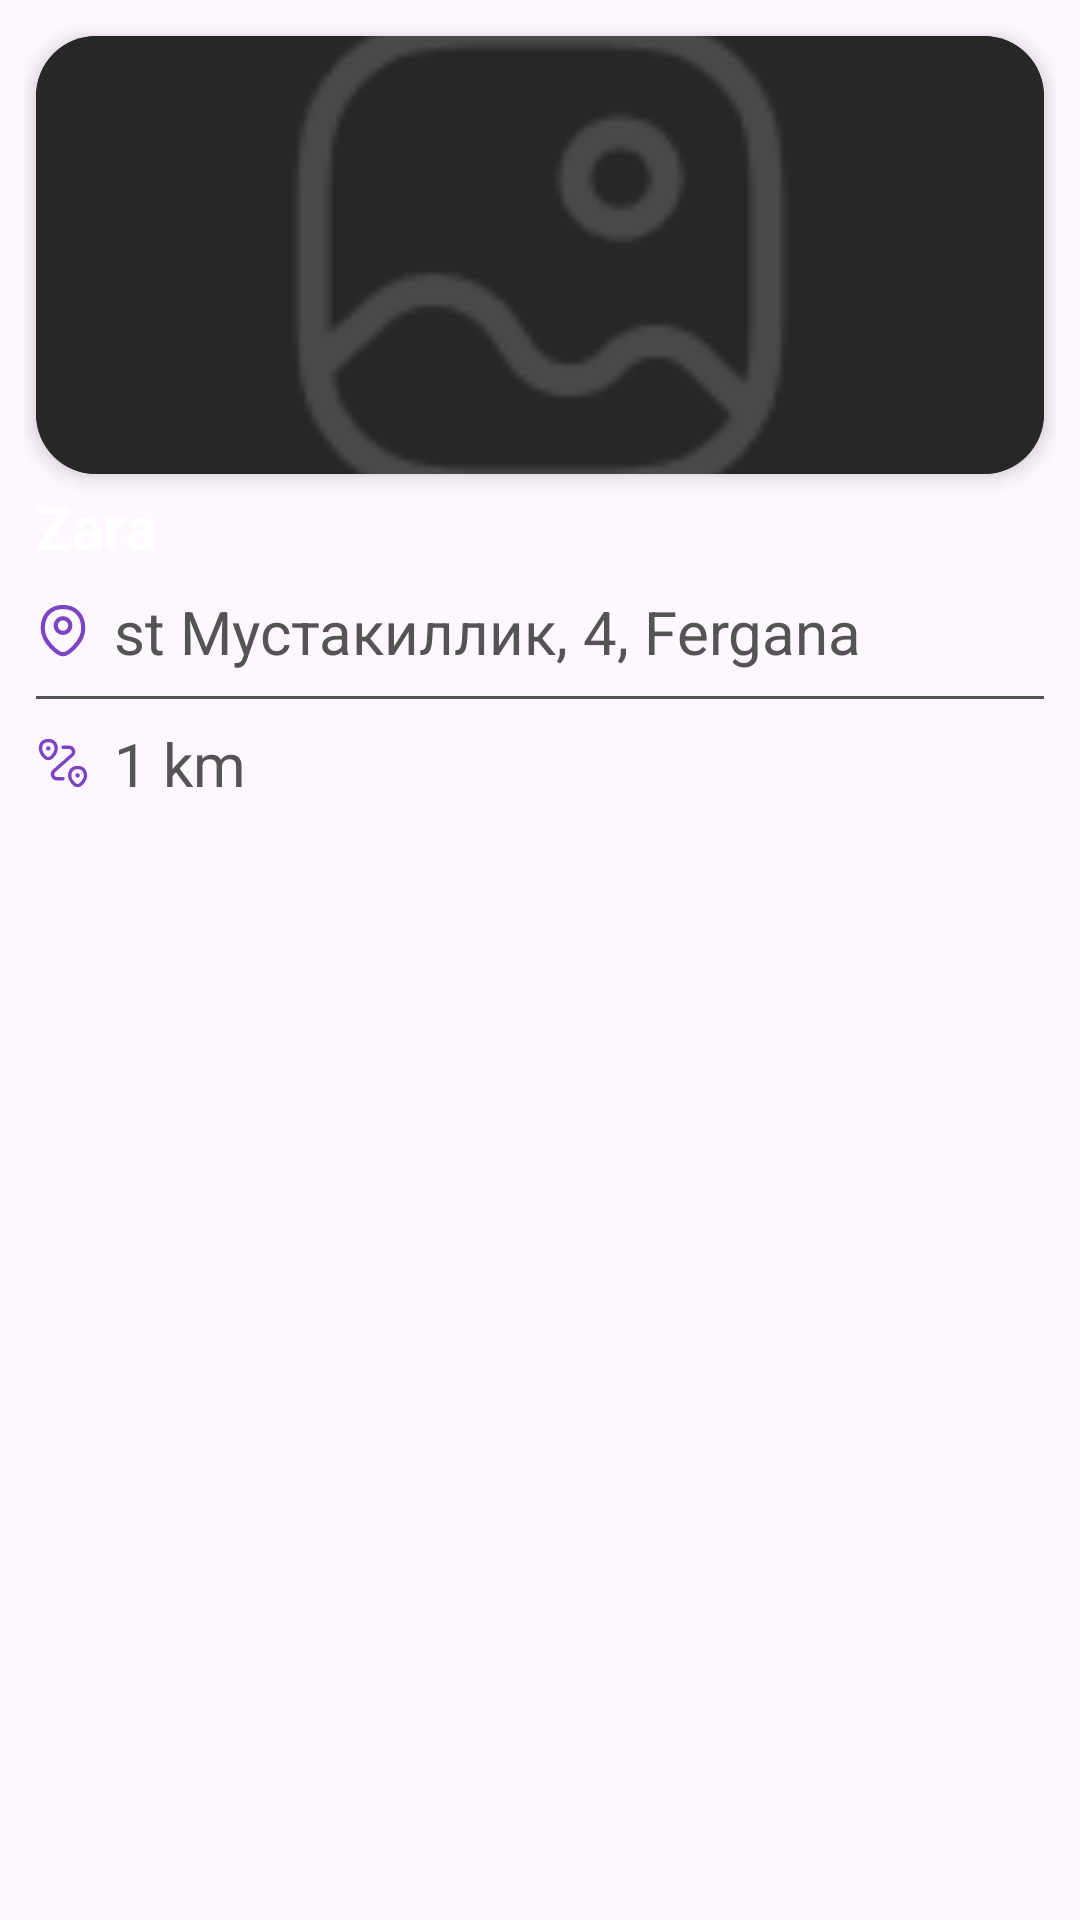

Locate icon controls on the screen. Image size 1080 x 1920, boxes as [x1, y1, x2, y2].
location: [40, 605, 86, 657]
routing: [38, 738, 88, 788]
